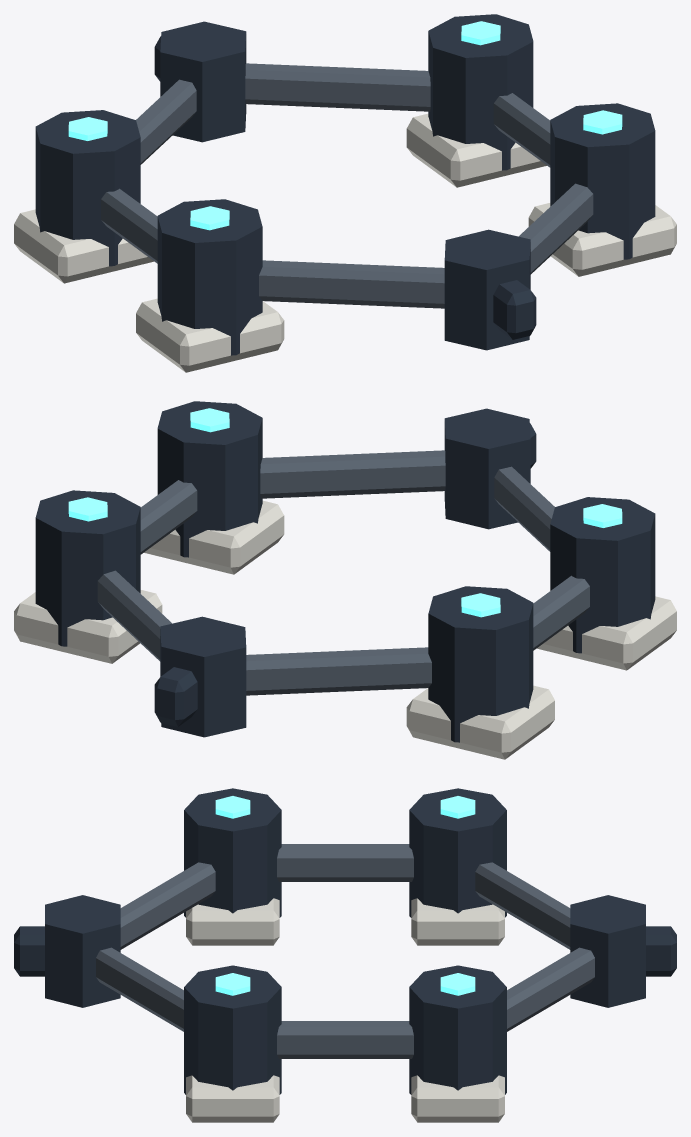
File: workflow_rail.glb
3 views of the same model, one above another, from view 1: azimuth 30°, elevation 25°; view 2: azimuth 150°, elevation 25°; view 3: azimuth 270°, elevation 25° (orthographic). The views are drawn at different scales.
Visible parts, largest first — view 1: workflow_rail__workflow_node_1, workflow_rail__workflow_node_5, workflow_rail__workflow_node_2, workflow_rail__workflow_node_4, workflow_rail__junction_3, workflow_rail__junction_0, workflow_rail__rail__04, workflow_rail__rail, workflow_rail__node_foot, workflow_rail__node_foot__03, workflow_rail__node_foot__02, workflow_rail__node_foot__04 (+9 smaller); view 2: workflow_rail__workflow_node_2, workflow_rail__workflow_node_4, workflow_rail__workflow_node_1, workflow_rail__workflow_node_5, workflow_rail__junction_0, workflow_rail__junction_3, workflow_rail__rail__06, workflow_rail__rail__03, workflow_rail__node_foot__02, workflow_rail__node_foot__04, workflow_rail__node_foot, workflow_rail__node_foot__03 (+9 smaller); view 3: workflow_rail__workflow_node_4, workflow_rail__workflow_node_5, workflow_rail__workflow_node_1, workflow_rail__workflow_node_2, workflow_rail__junction_0, workflow_rail__junction_3, workflow_rail__rail__02, workflow_rail__rail__05, workflow_rail__rail, workflow_rail__rail__03, workflow_rail__node_foot__03, workflow_rail__node_foot__04 (+10 smaller).
Part boxes in pixels (x1,y1,x2,y2): workflow_rail__workflow_node_1: (157, 199, 262, 355); workflow_rail__workflow_node_5: (550, 103, 655, 259); workflow_rail__workflow_node_2: (35, 110, 140, 266); workflow_rail__workflow_node_4: (428, 14, 533, 170); workflow_rail__junction_3: (160, 21, 246, 142); workflow_rail__junction_0: (444, 229, 530, 350); workflow_rail__rail__04: (245, 63, 430, 111); workflow_rail__rail: (259, 260, 444, 308); workflow_rail__node_foot: (136, 298, 284, 372); workflow_rail__node_foot__03: (406, 113, 546, 187); workflow_rail__node_foot__02: (14, 209, 153, 283); workflow_rail__node_foot__04: (528, 203, 676, 276); workflow_rail__workflow_node_2: (428, 586, 533, 742); workflow_rail__workflow_node_4: (35, 490, 140, 646); workflow_rail__workflow_node_1: (550, 497, 655, 653); workflow_rail__workflow_node_5: (157, 401, 262, 557); workflow_rail__junction_0: (444, 408, 530, 529); workflow_rail__junction_3: (160, 616, 246, 737); workflow_rail__rail__06: (260, 450, 445, 498); workflow_rail__rail__03: (246, 647, 431, 695); workflow_rail__node_foot__02: (406, 685, 554, 759); workflow_rail__node_foot__04: (144, 500, 284, 574); workflow_rail__node_foot: (537, 596, 676, 670); workflow_rail__node_foot__03: (14, 590, 162, 663); workflow_rail__workflow_node_4: (409, 965, 506, 1094); workflow_rail__workflow_node_5: (184, 965, 281, 1094); workflow_rail__workflow_node_1: (184, 788, 281, 917); workflow_rail__workflow_node_2: (409, 788, 506, 917); workflow_rail__junction_0: (45, 895, 120, 1007); workflow_rail__junction_3: (570, 895, 645, 1007); workflow_rail__rail__02: (277, 844, 413, 881); workflow_rail__rail__05: (277, 1021, 413, 1058); workflow_rail__rail: (120, 862, 215, 949); workflow_rail__rail__03: (475, 862, 570, 949); workflow_rail__node_foot__03: (411, 1075, 504, 1122); workflow_rail__node_foot__04: (186, 1075, 279, 1122).
Size of the model in its own units: 4 by 1 by 5.
